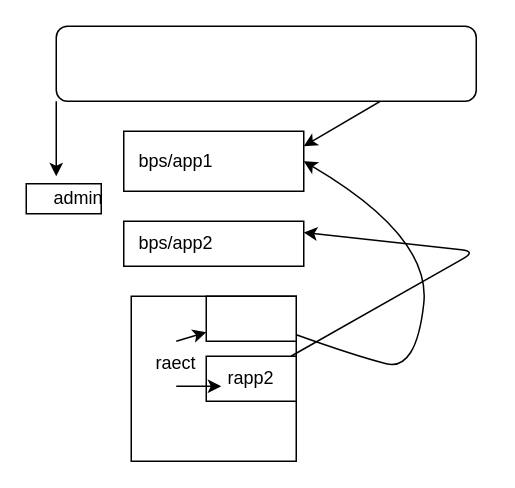
Image size: 515x488. Some labels were removed from this diagram. Here are the shapes that lost their labels. From the top down, the centre of each, then its label:
(265,63): BPS
(250,318): rapp1
